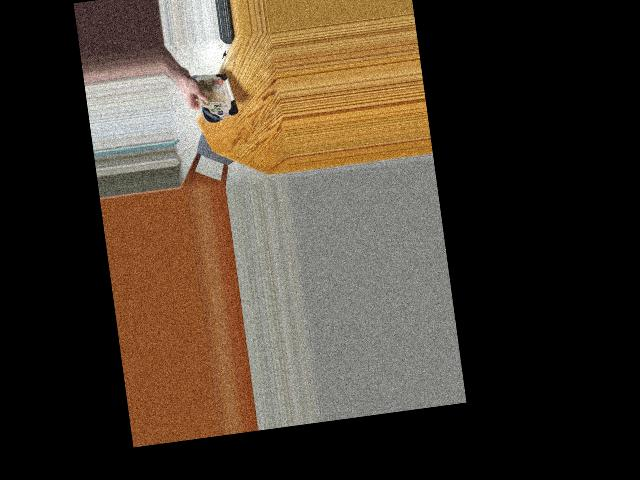cheese: (188, 68, 239, 126)
